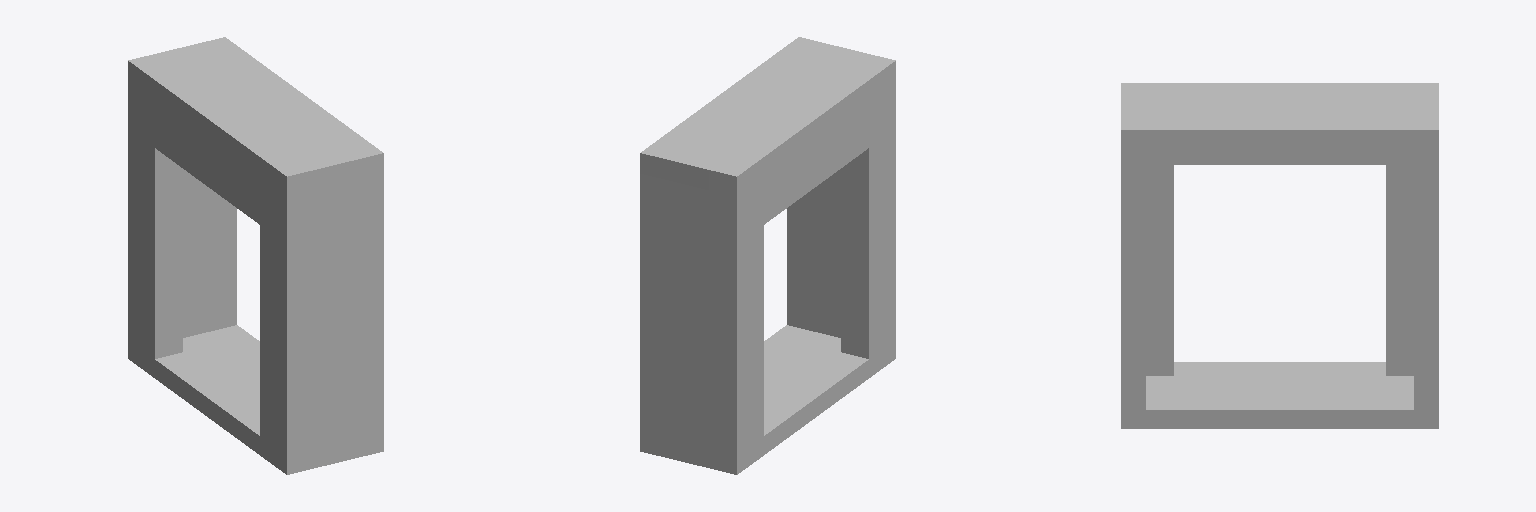
The model's file is Connector - Hallway.obj.
3 views of the same model, side by side, from view 1: azimuth 30°, elevation 25°; view 2: azimuth 150°, elevation 25°; view 3: azimuth 270°, elevation 25° (orthographic).
Parts seen in each view (by area): view 1: Cube.004_Cube.007; view 2: Cube.004_Cube.007; view 3: Cube.004_Cube.007.
Boxes of the visible parts, x1,y1,x2,y2 form: Cube.004_Cube.007: [128, 37, 383, 474]; Cube.004_Cube.007: [640, 37, 895, 474]; Cube.004_Cube.007: [1121, 83, 1438, 428].
Size of the model in its own units: 0.5285 by 1.55 by 1.5.